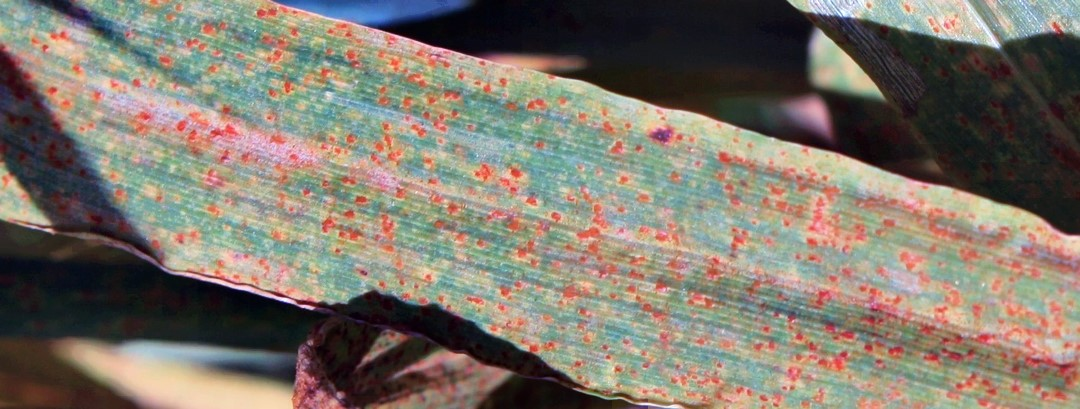Leaf Rust: (119, 30, 996, 409)
